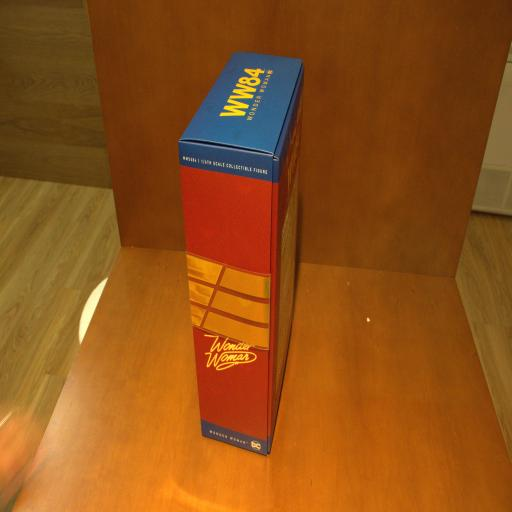WonderWoman: (177, 50, 305, 456)
